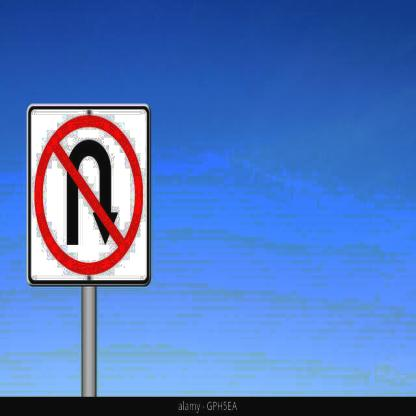No U-turn: (20, 100, 153, 288)
